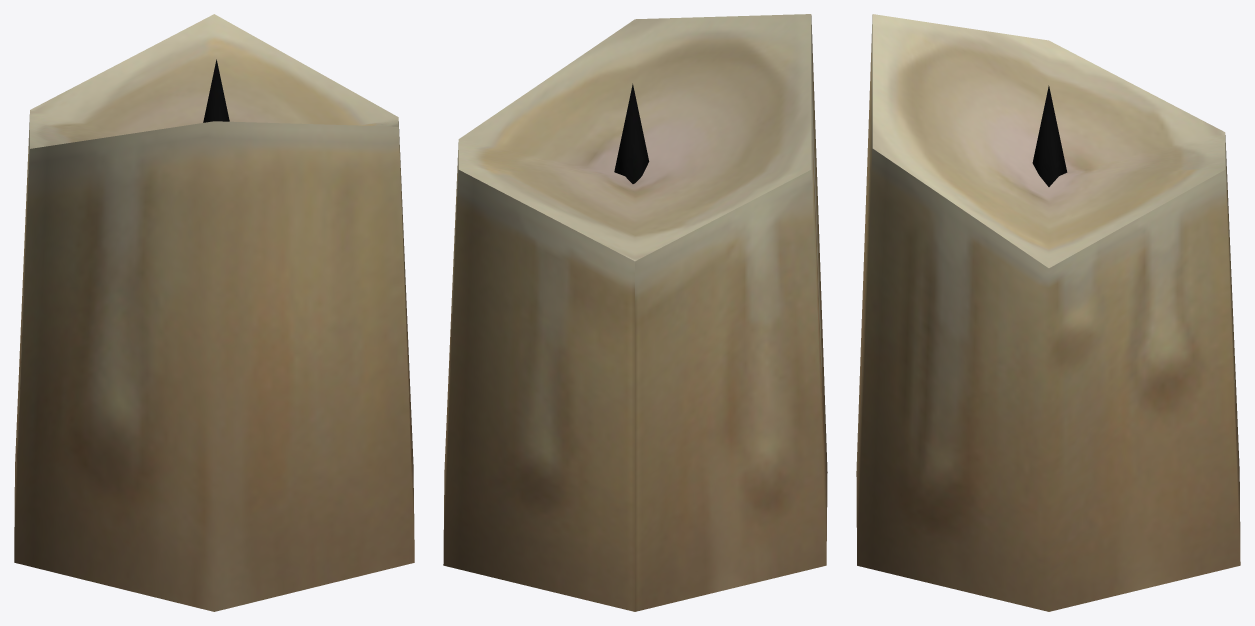
File: candle_02.fbx
3 views of the same model, side by side, from view 1: azimuth 30°, elevation 25°; view 2: azimuth 150°, elevation 25°; view 3: azimuth 270°, elevation 25° (orthographic). The views are drawn at different scales.
Visible parts, largest first — view 1: Candle1; view 2: Candle1; view 3: Candle1.
Boxes of the visible parts, <box> form: Candle1: <box>14,14,414,611</box>; Candle1: <box>443,14,827,611</box>; Candle1: <box>856,14,1240,611</box>.
Bounding box in the file's own units: 7.18 × 8.29 × 6.25.
